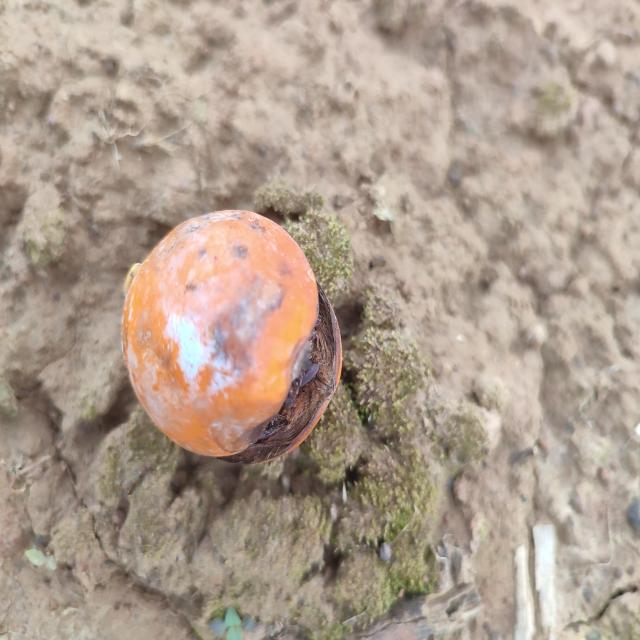damaged: (122, 210, 342, 463)
